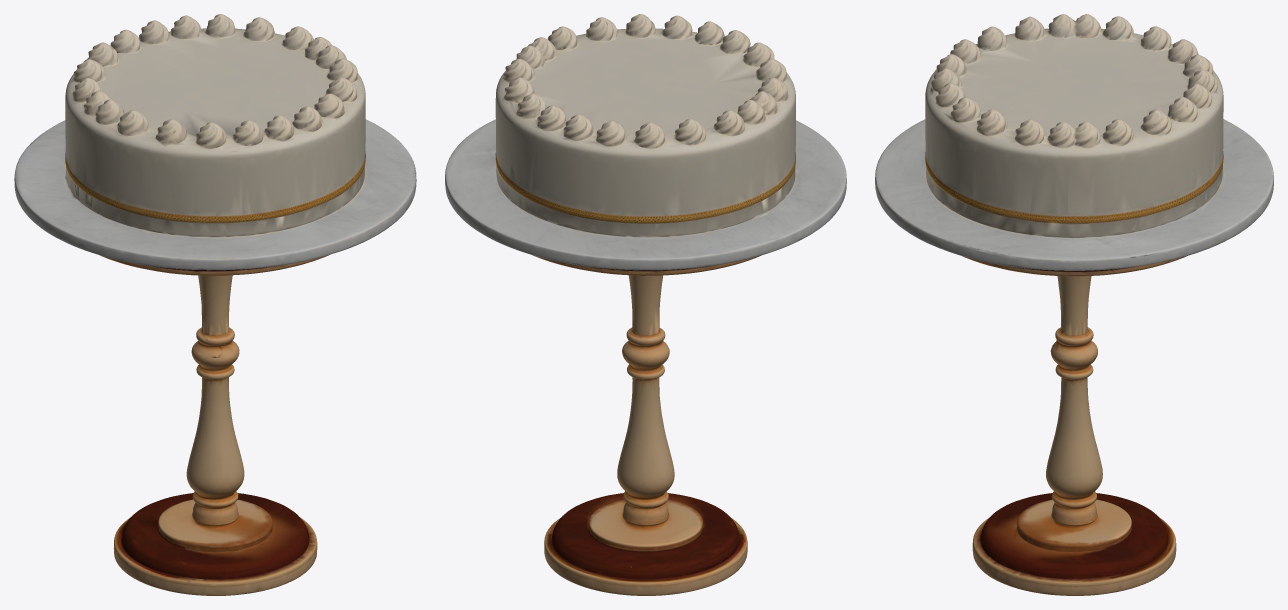
The model's file is cake_a.glb.
3 renders of one model, left to right at view 1: azimuth 30°, elevation 25°; view 2: azimuth 150°, elevation 25°; view 3: azimuth 270°, elevation 25°, orthographic.
Parts seen in each view (by area): view 1: material; view 2: material; view 3: material.
Part boxes in pixels (bbox=[...]): material: bbox=[14, 14, 416, 595]; material: bbox=[445, 14, 846, 595]; material: bbox=[875, 14, 1273, 595].
Size of the model in its own units: 0.8091 by 1.08 by 0.8005.
1 material, 1 textured.
